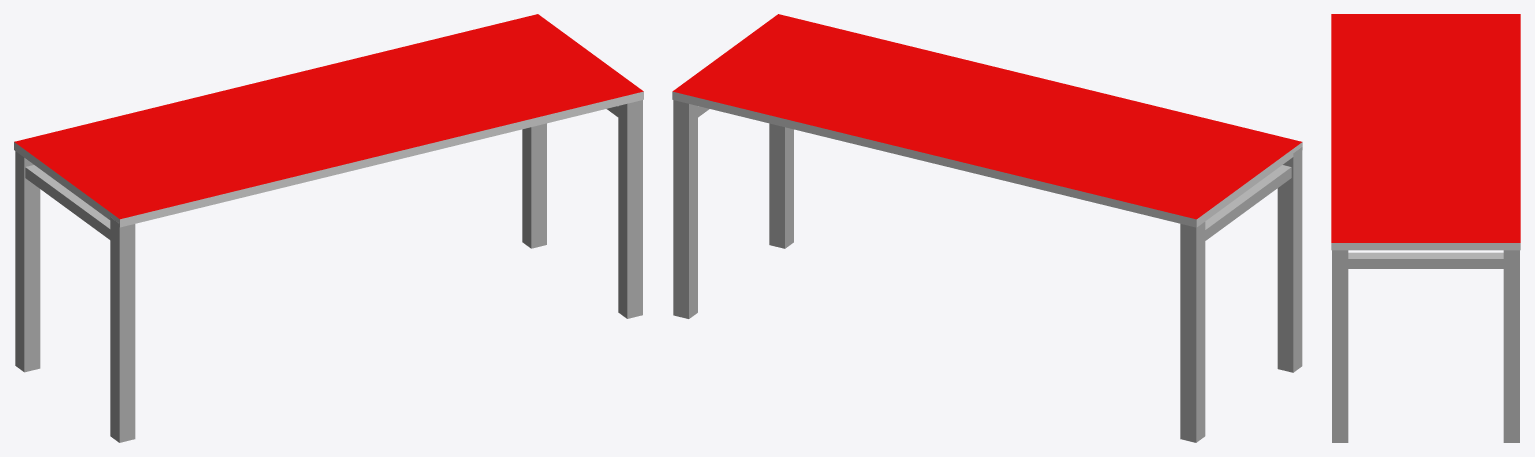
File: 8C_TableR.fbx
3 views of the same model, side by side, from view 1: azimuth 30°, elevation 25°; view 2: azimuth 150°, elevation 25°; view 3: azimuth 270°, elevation 25° (orthographic). The views are drawn at different scales.
Visible parts, largest first — view 1: 立方体, 足; view 2: 立方体, 足; view 3: 立方体, 足.
Part boxes in pixels (left/top/right/bottom): 立方体: left=14, top=14, right=643, bottom=227; 足: left=15, top=100, right=642, bottom=442; 立方体: left=672, top=14, right=1302, bottom=227; 足: left=673, top=100, right=1302, bottom=442; 立方体: left=1331, top=14, right=1520, bottom=250; 足: left=1332, top=250, right=1519, bottom=442.
Bounding box in the file's own units: 200 × 81.66 × 70.
